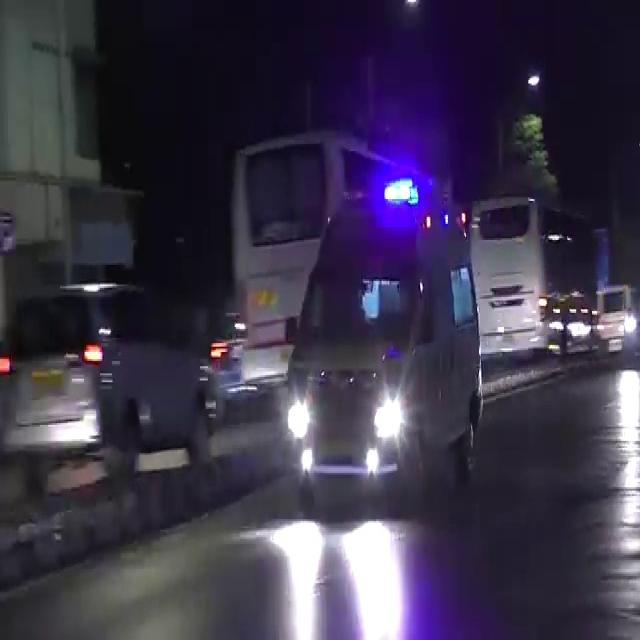ambulance: (294, 192, 481, 488)
